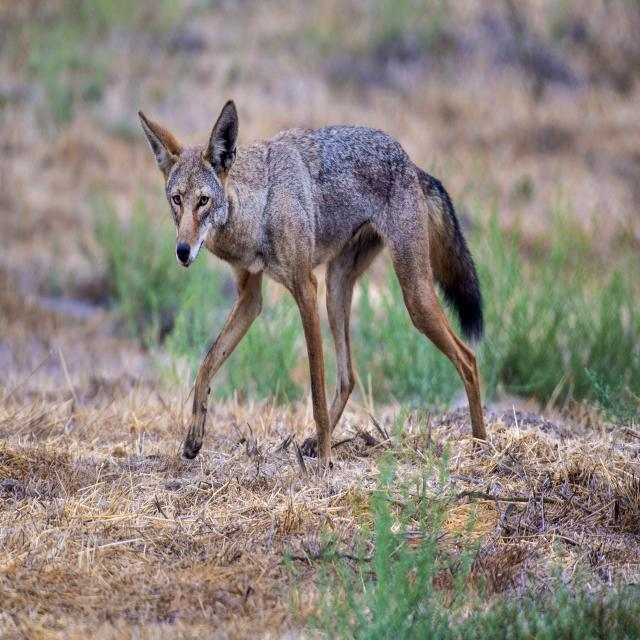coyote: (139, 100, 485, 465)
